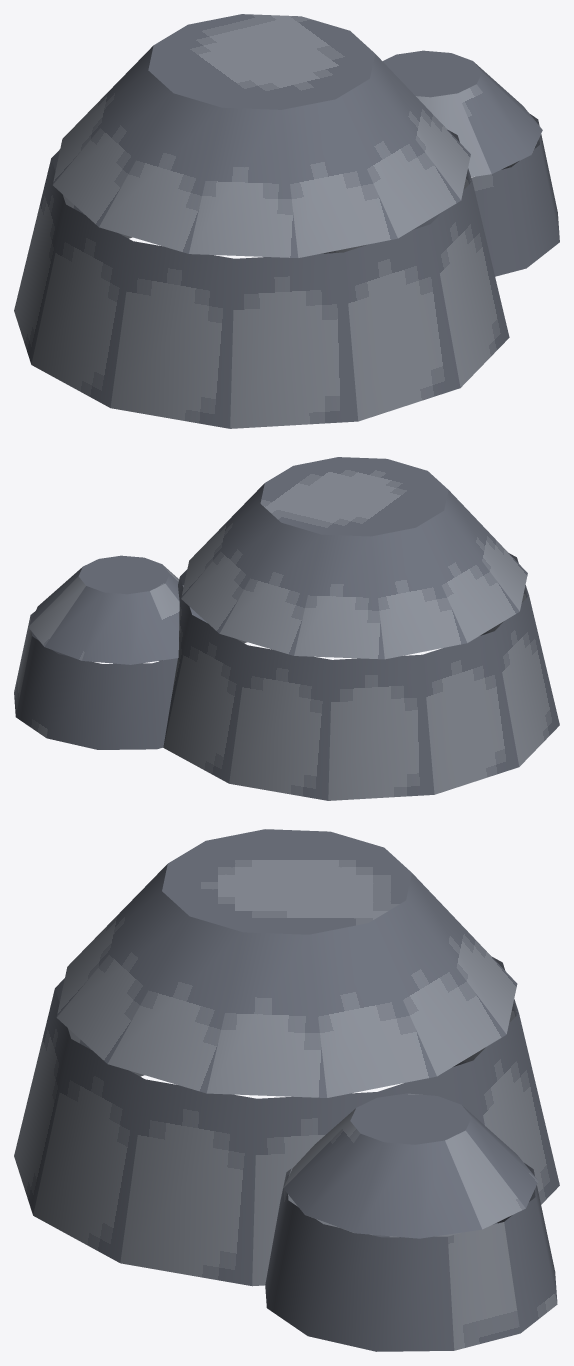
The model's file is rock_3.glb.
3 views of the same model, one above another, from view 1: azimuth 30°, elevation 25°; view 2: azimuth 150°, elevation 25°; view 3: azimuth 270°, elevation 25° (orthographic). The views are drawn at different scales.
Parts seen in each view (by area): view 1: rock_4; view 2: rock_4; view 3: rock_4.
Part boxes in pixels (x1=…): rock_4: x1=14, y1=14, x2=559, y2=428; rock_4: x1=14, y1=457, x2=559, y2=800; rock_4: x1=14, y1=829, x2=559, y2=1351.
Bounding box in the file's own units: 1.27 × 0.5774 × 0.9891.
1 material, 1 textured.
